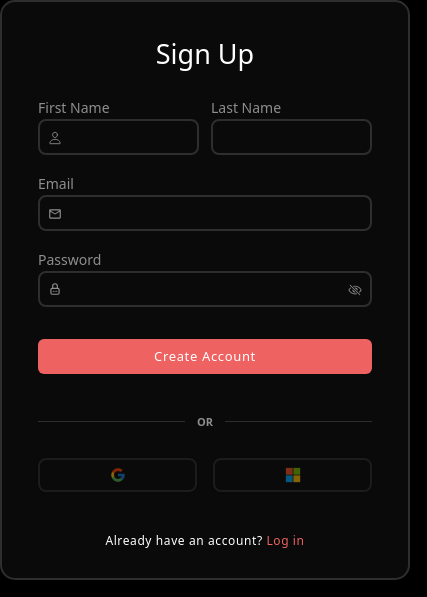
it: SignUpPage › Form Validation › shows validation errors for empty required fields
Click the button "Create Account" at (205, 356), box [38,338,372,374]
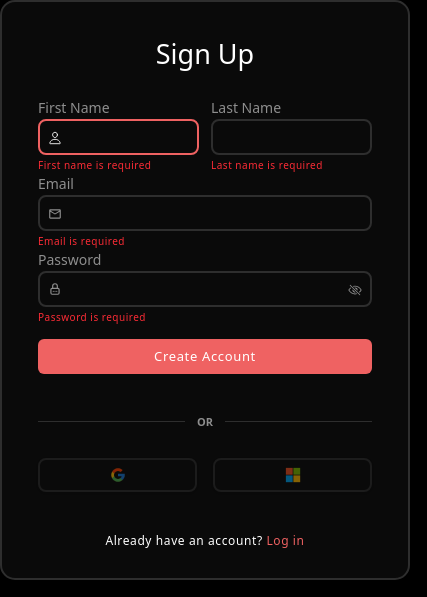
expect the text "First name is required" is shown: met, box [38,158,152,172]
expect the text "Last name is required" is shown: met, box [211,158,323,172]
expect the text "Email is required" is shown: met, box [38,234,125,248]
